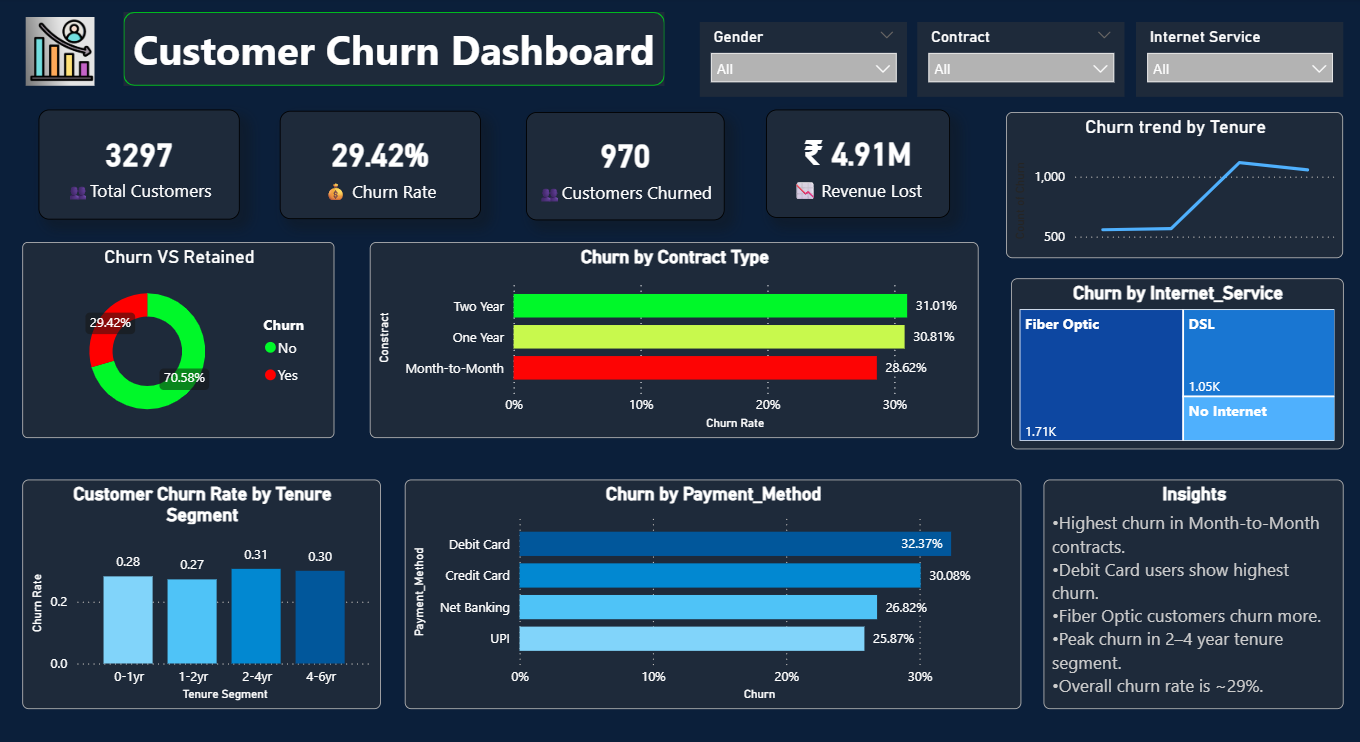

The page's visual inventory and layout, read from the dashboard file:
{"tool":"powerbi","page":{"name":"Page 1","canvas":[1280,720],"ordinal":0},"visuals":[{"type":"shape","box":[123.3,14,503.5,68.6],"z":0},{"type":"image","box":[29.1,18.6,70.9,64],"z":1000},{"type":"slicer","fields":{"Values":["churn_db churn_data.Contract_Type"]},"box":[861.6,23.3,193,69.8],"z":2000},{"type":"slicer","fields":{"Values":["churn_db churn_data.Gender"]},"box":[658.8,22.8,193,69.8],"z":3000},{"type":"slicer","fields":{"Values":["churn_db churn_data.Internet_Service"]},"box":[1065.1,23.3,193,69.8],"z":4000},{"type":"card","fields":{"Values":["churn_db churn_data.Total Customers"]},"box":[44.2,104.7,187.2,102.3],"z":5000},{"type":"card","fields":{"Values":["churn_db churn_data.Churn Rate"]},"box":[268.6,105.8,187.2,101.2],"z":6000},{"type":"card","fields":{"Values":["churn_db churn_data.Customers Churned"]},"box":[497.7,107,184.9,101.2],"z":7000},{"type":"card","fields":{"Values":["churn_db churn_data.Revenue Lost"]},"box":[720.9,104.7,170.9,101.2],"z":8000},{"type":"donutChart","title":"Churn VS Retained","fields":{"Category":["churn_db churn_data.Churn"],"Y":["CountNonNull(churn_db churn_data.Customer_ID)"]},"box":[29.1,227.9,290.7,182.6],"z":8001},{"type":"clusteredBarChart","title":"Churn by Contract Type","fields":{"Category":["churn_db churn_data.Contract_Type"],"Y":["churn_db churn_data.Churn Rate"]},"box":[352.3,227.9,566.3,182.6],"z":8002},{"type":"clusteredColumnChart","title":"Customer Churn Rate by Tenure Segment","fields":{"Category":["churn_db churn_data.Tenure_Group"],"Y":["churn_db churn_data.Churn Rate %"]},"box":[29.1,448.8,333.7,214],"z":8003},{"type":"barChart","title":"Churn by Payment_Method","fields":{"Y":["churn_db churn_data.Churn Count"],"Category":["churn_db churn_data.Payment_Method"]},"box":[384.9,448.8,573.3,214],"z":8005},{"type":"treemap","title":"Churn by Internet_Service","fields":{"Group":["churn_db churn_data.Internet_Service"],"Values":["CountNonNull(churn_db churn_data.Churn)"]},"box":[948.8,261.6,309.3,159.3],"z":8006},{"type":"textbox","title":"Insights","box":[979.1,448.8,279.1,214],"z":8007},{"type":"lineChart","title":" Churn trend by Tenure","fields":{"Y":["CountNonNull(churn_db churn_data.Churn)"],"Category":["churn_db churn_data.Tenure_Group"]},"box":[944.2,107,314,136],"z":8008}]}

Visuals, with their boxes on the page's 1280x720 design canvas (x1, y1, x2, y2). These are canvas units, not pixel positions in the 1360x742 screenshot, which may show the page scaled, cropped or inside an application window:
shape: box(123, 14, 627, 83)
image: box(29, 19, 100, 83)
slicer - churn_db churn_data.Contract_Type: box(862, 23, 1055, 93)
slicer - churn_db churn_data.Gender: box(659, 23, 852, 93)
slicer - churn_db churn_data.Internet_Service: box(1065, 23, 1258, 93)
card - churn_db churn_data.Total Customers: box(44, 105, 231, 207)
card - churn_db churn_data.Churn Rate: box(269, 106, 456, 207)
card - churn_db churn_data.Customers Churned: box(498, 107, 683, 208)
card - churn_db churn_data.Revenue Lost: box(721, 105, 892, 206)
"Churn VS Retained" donutChart: box(29, 228, 320, 410)
"Churn by Contract Type" clusteredBarChart: box(352, 228, 919, 410)
"Customer Churn Rate by Tenure Segment" clusteredColumnChart: box(29, 449, 363, 663)
"Churn by Payment_Method" barChart: box(385, 449, 958, 663)
"Churn by Internet_Service" treemap: box(949, 262, 1258, 421)
"Insights" textbox: box(979, 449, 1258, 663)
" Churn trend by Tenure" lineChart: box(944, 107, 1258, 243)
